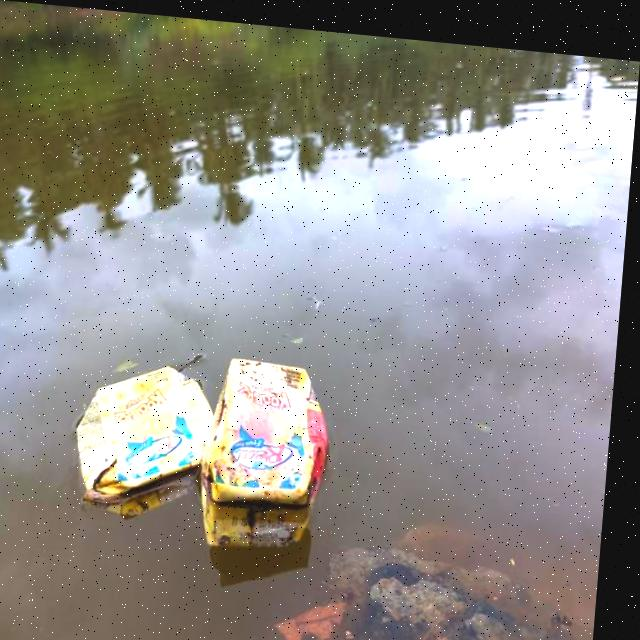paper: (49, 325, 218, 508), (220, 351, 345, 527)
